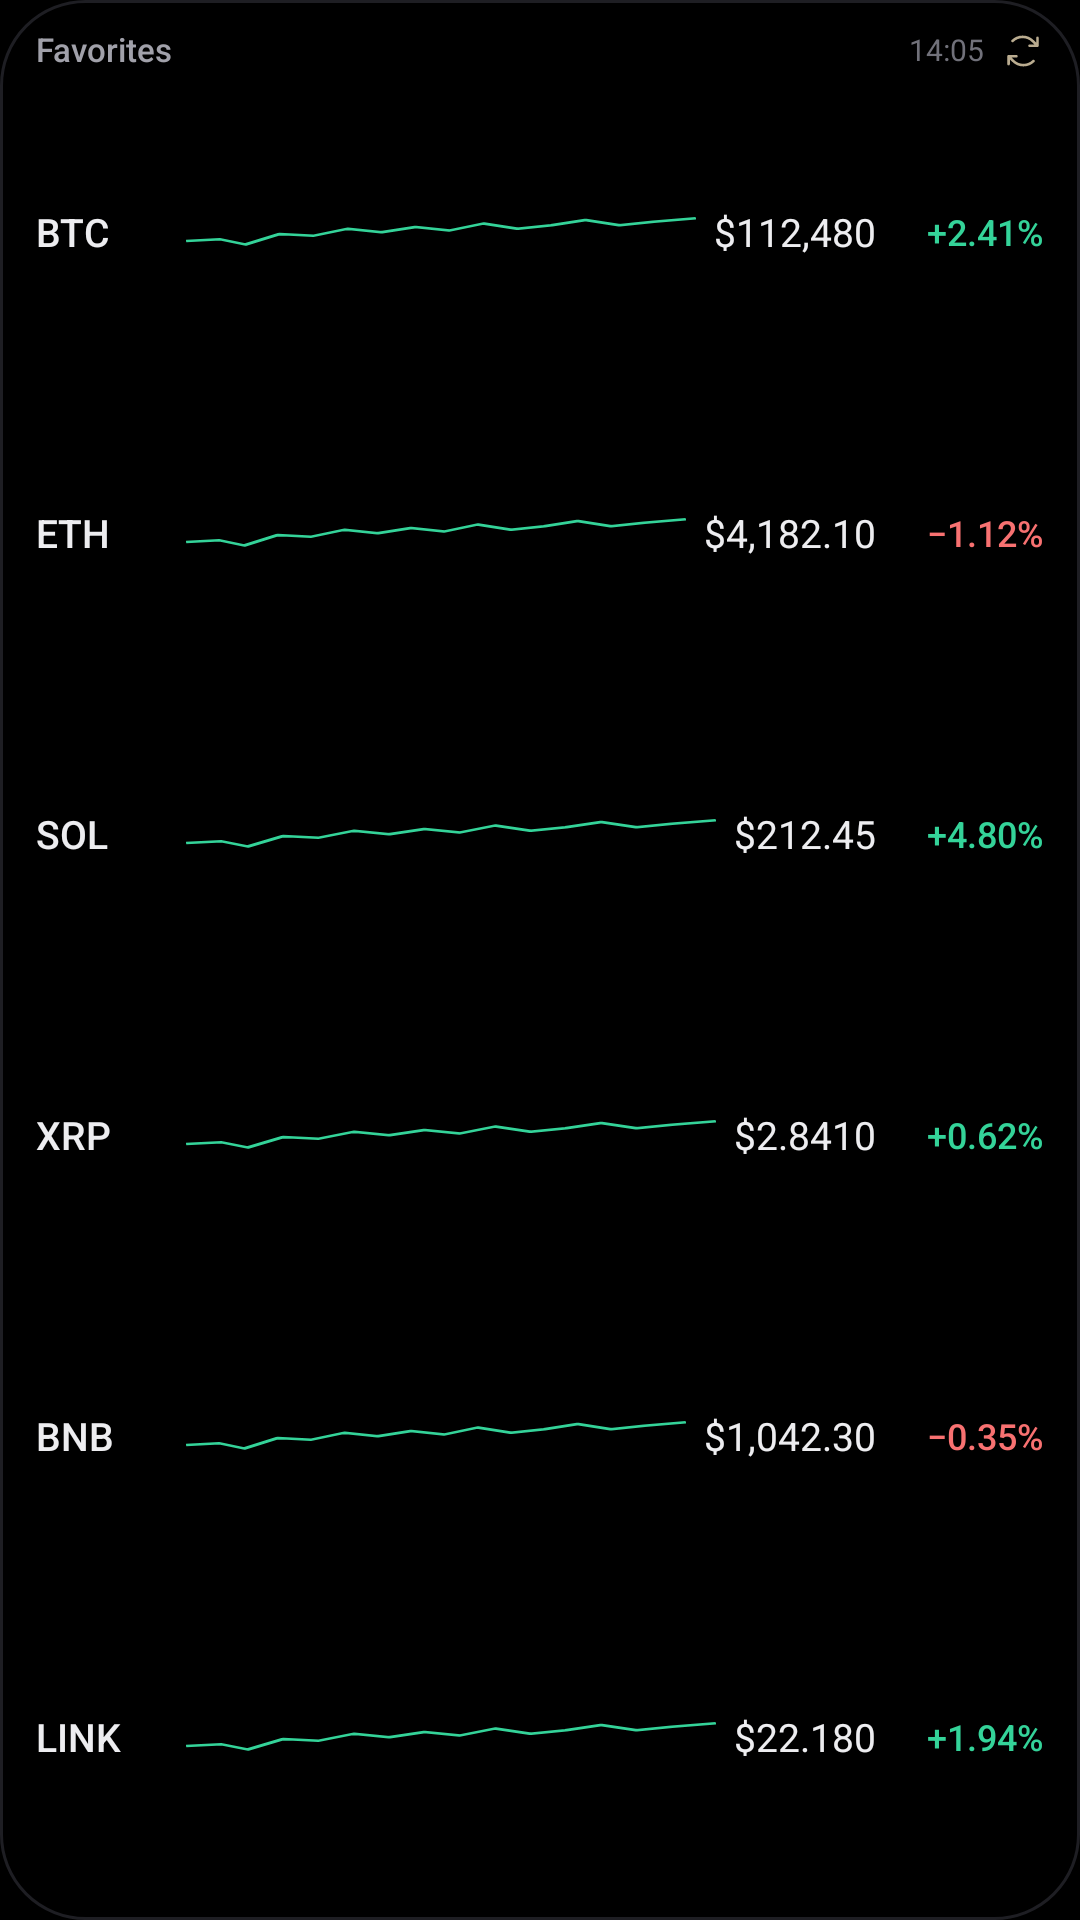

Where to tap for icons on this 1080*1920 app screen, as [x,y]:
widget refresh: [1023,51]
